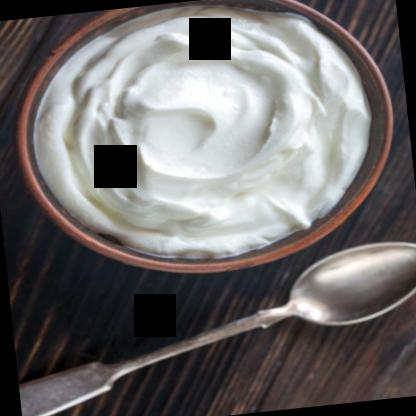yogurt: (5, 0, 396, 280)
